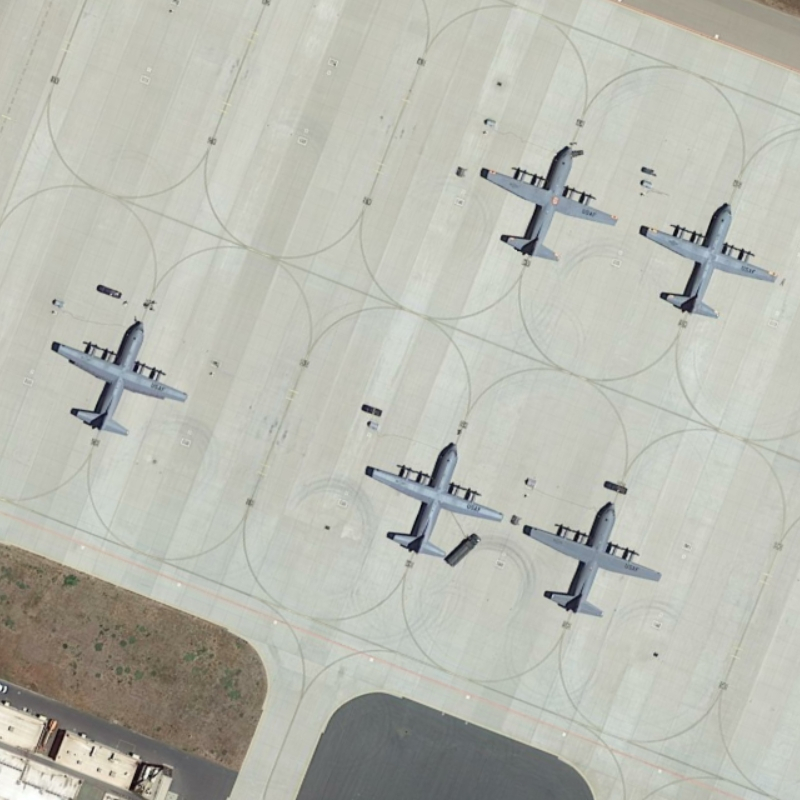A2: (636, 194, 784, 324), (363, 433, 506, 566), (43, 317, 191, 445), (522, 495, 670, 622), (479, 141, 621, 272)
